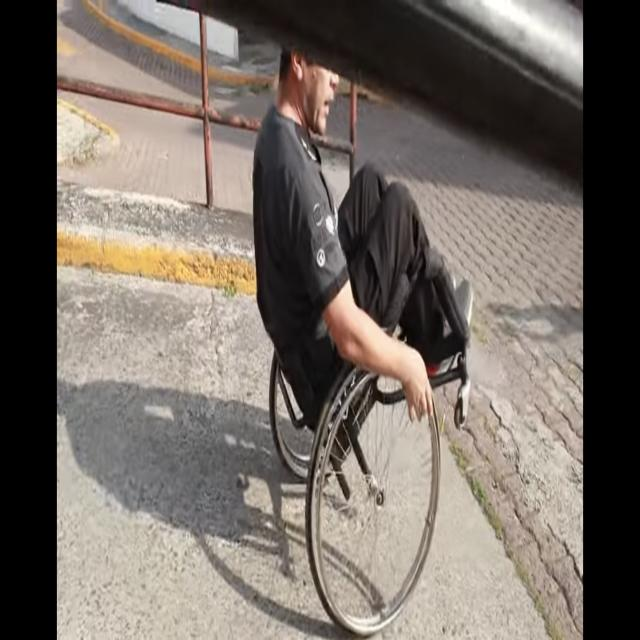wheelchairs: (267, 246, 473, 640)
